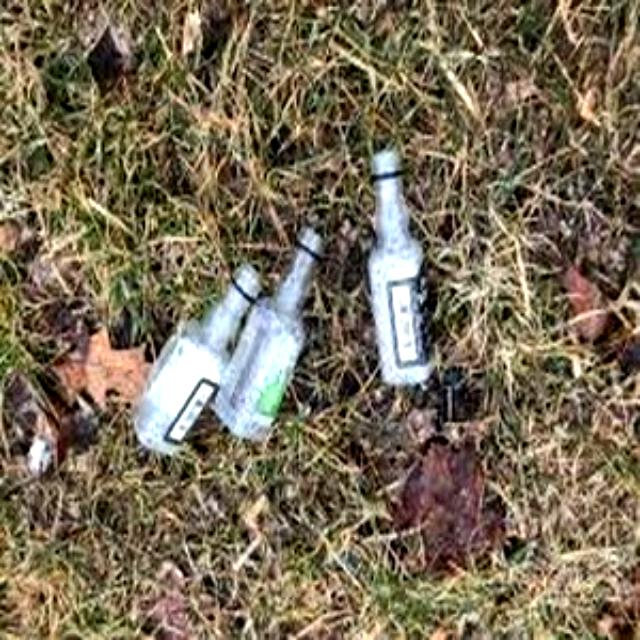Glass: (128, 262, 252, 458), (222, 232, 328, 442), (358, 144, 439, 388)
